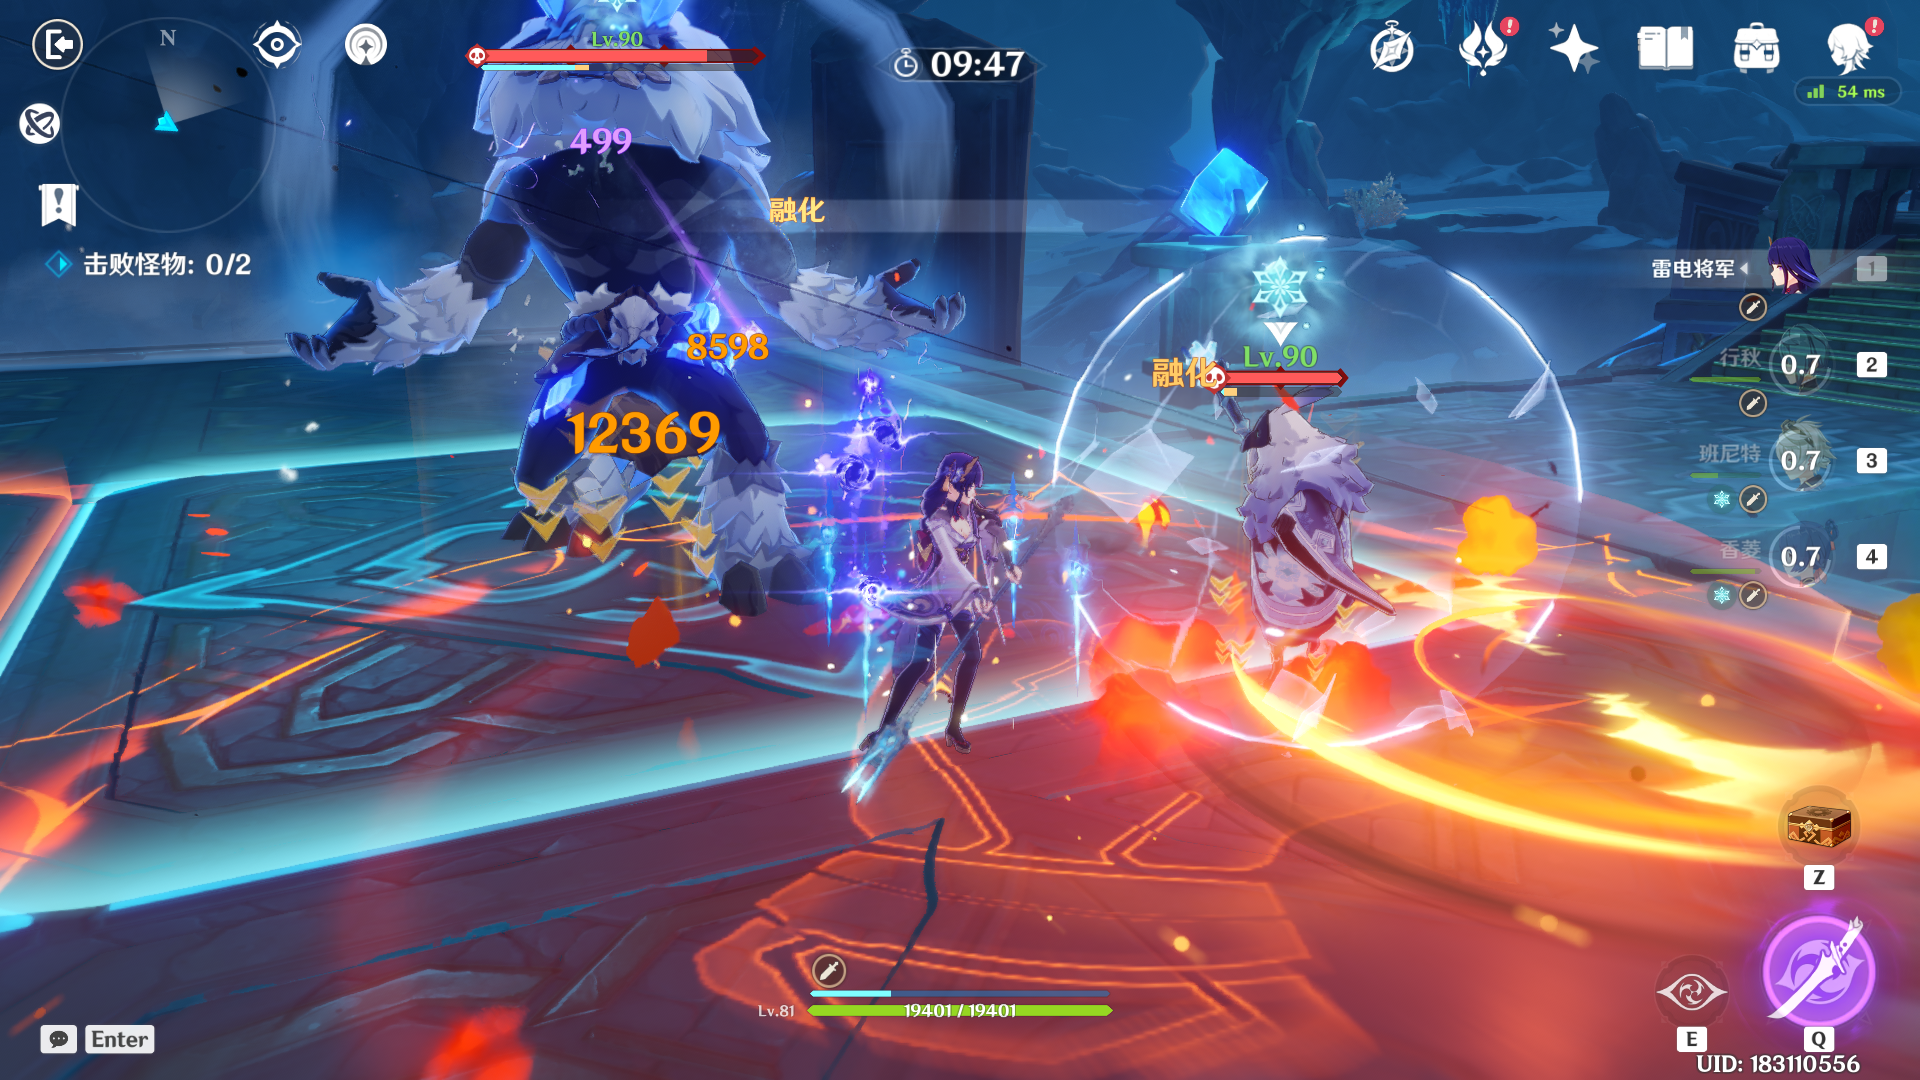bosshili: (243, 1, 968, 651)
caster: (1166, 344, 1445, 716)
character: (820, 396, 1036, 816)
